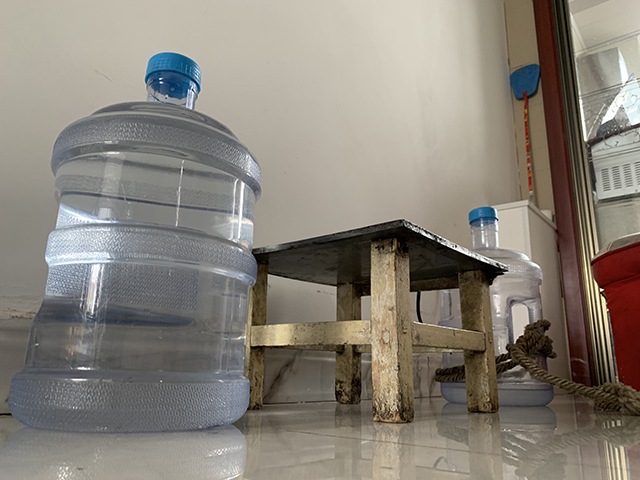table: (244, 218, 508, 425)
